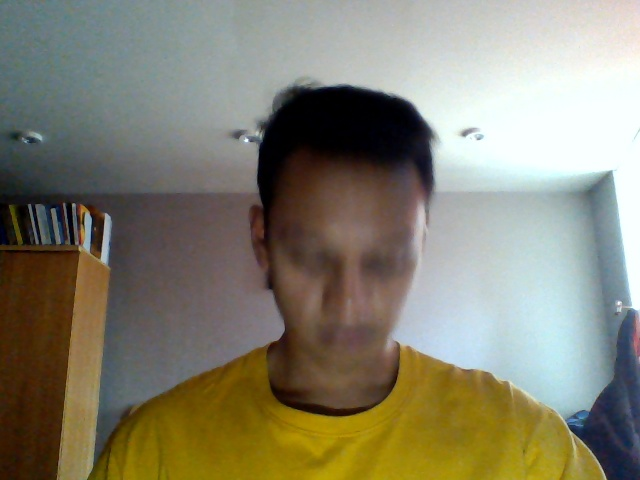no_mask: (264, 269, 419, 367)
